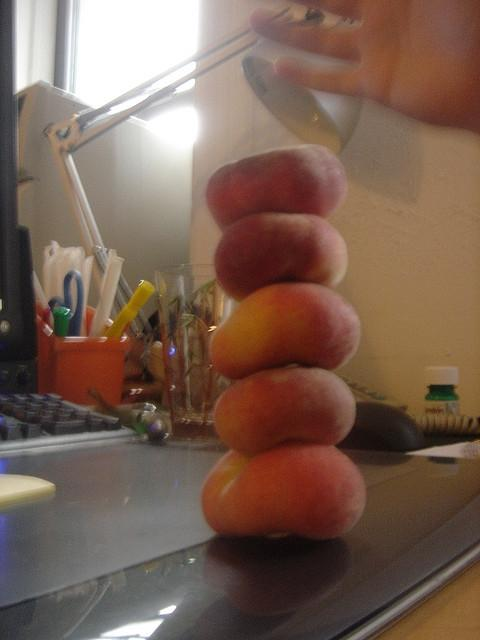peach: (201, 440, 367, 540), (211, 280, 362, 380), (213, 366, 357, 456), (214, 212, 350, 303), (206, 144, 348, 230)
